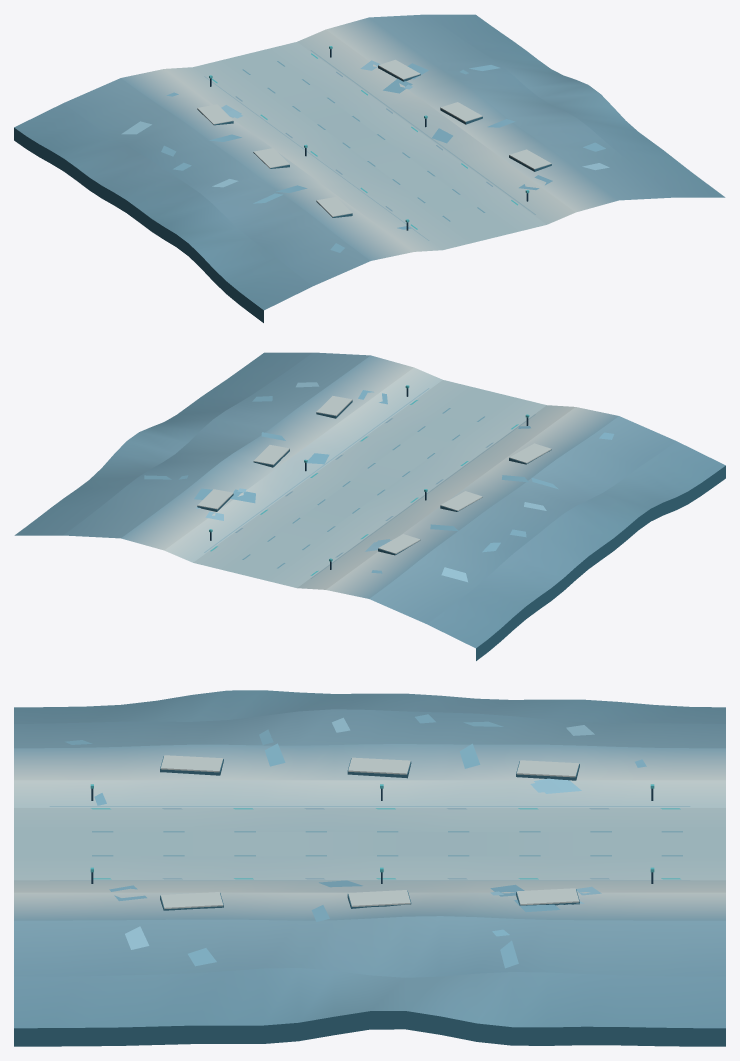
Rendered from 06-village.glb.
The picture shows the model from 3 angles, top to bottom: view 1: azimuth 30°, elevation 25°; view 2: azimuth 150°, elevation 25°; view 3: azimuth 270°, elevation 25°; orthographic projection. The views are drawn at different scales.
Visible parts, largest first — view 1: village; view 2: village; view 3: village.
Part boxes in pixels (bbox=[...]): village: bbox=[14, 14, 725, 322]; village: bbox=[14, 352, 725, 660]; village: bbox=[14, 690, 725, 1046].
Bounding box in the file's own units: 32 × 2.76 × 30.
